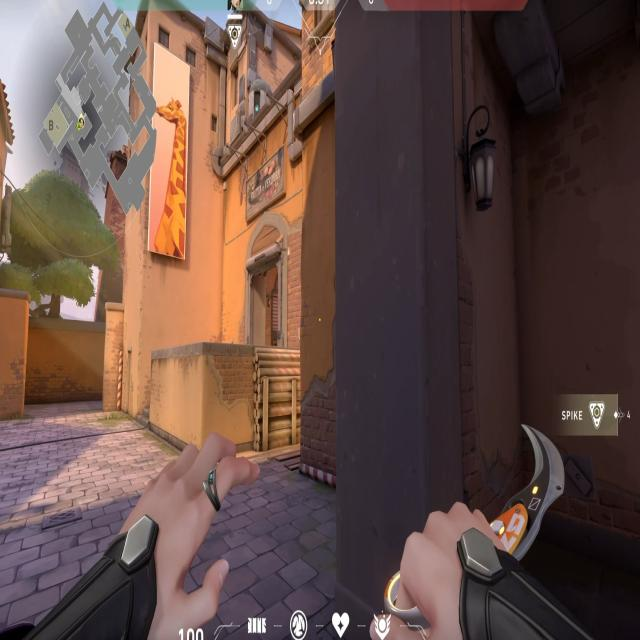B_Cubby: (195, 339, 308, 459)
